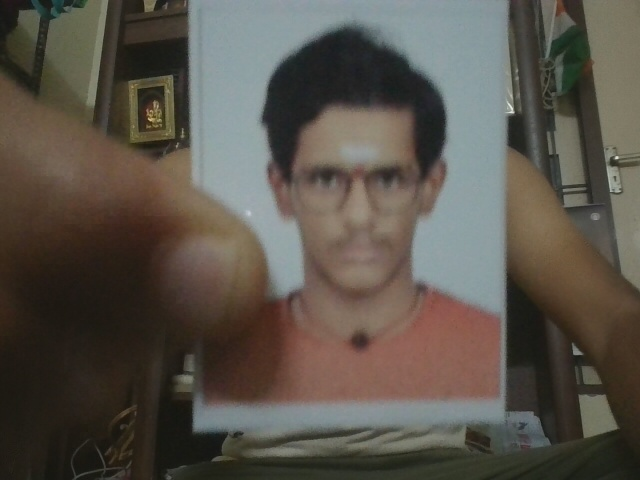fake: (260, 107, 456, 303)
